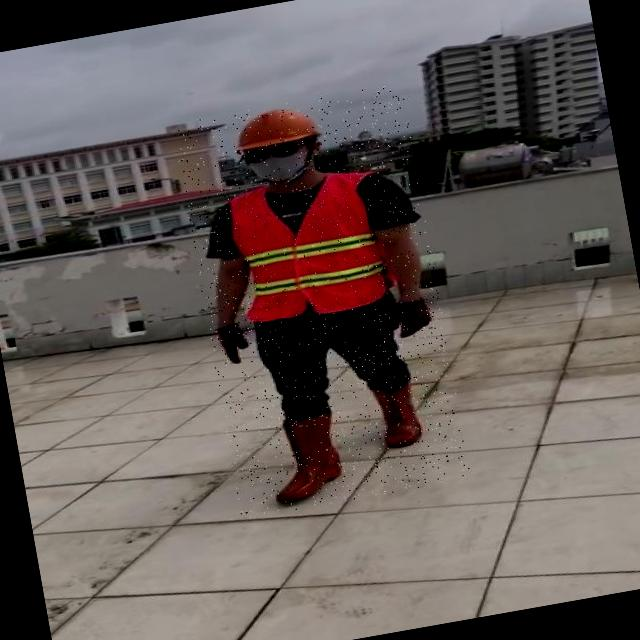boots: (262, 411, 350, 504), (371, 375, 427, 451)
gloves: (380, 296, 435, 341), (214, 321, 249, 364)
helmet: (230, 99, 322, 153)
vest: (225, 168, 398, 326)
